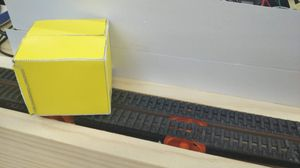box4: (11, 18, 114, 117)
